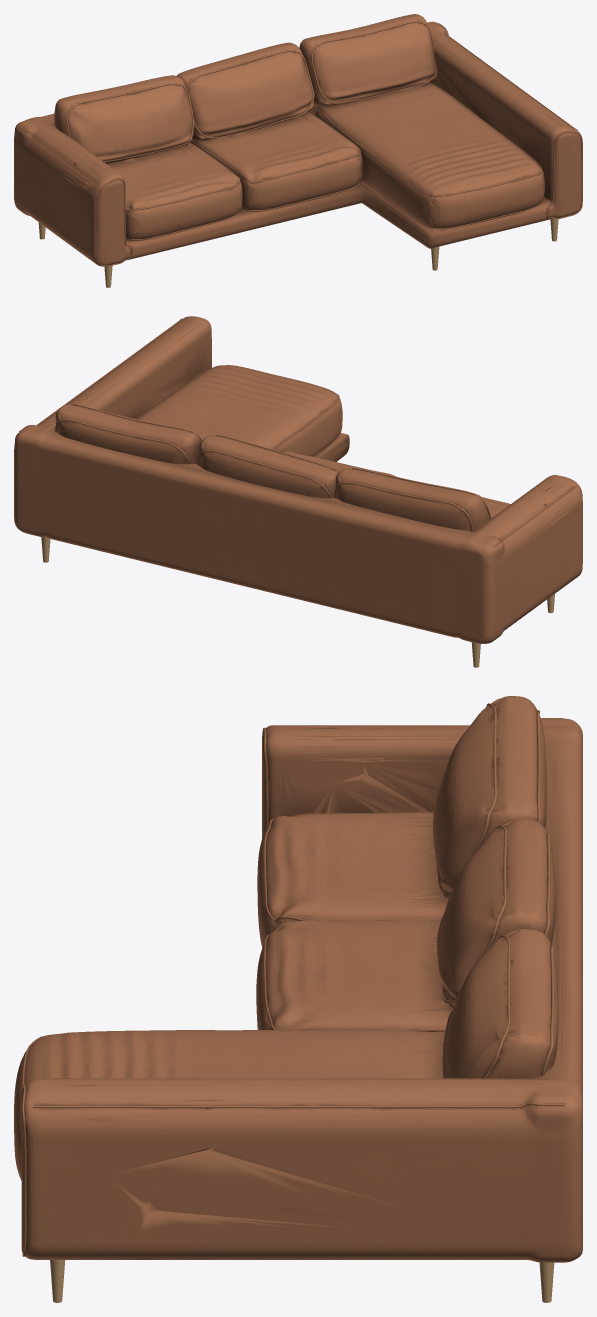
Rendered from cuero-suela.gltf.
3 renders of one model, top to bottom at view 1: azimuth 30°, elevation 25°; view 2: azimuth 150°, elevation 25°; view 3: azimuth 270°, elevation 25°, orthographic. The views are drawn at different scales.
Parts seen in each view (by area): view 1: tela_ar, madera_ar; view 2: tela_ar, madera_ar; view 3: tela_ar, madera_ar.
Part boxes in pixels (x1=…): tela_ar: x1=14, y1=14, x2=582, y2=266; madera_ar: x1=38, y1=218, x2=558, y2=287; tela_ar: x1=14, y1=316, x2=582, y2=643; madera_ar: x1=41, y1=537, x2=554, y2=667; tela_ar: x1=14, y1=696, x2=582, y2=1262; madera_ar: x1=50, y1=1260, x2=554, y2=1302.
Size of the model in its own units: 2.6 by 0.8227 by 1.6.
Materials: 2 (2 with a texture image).
